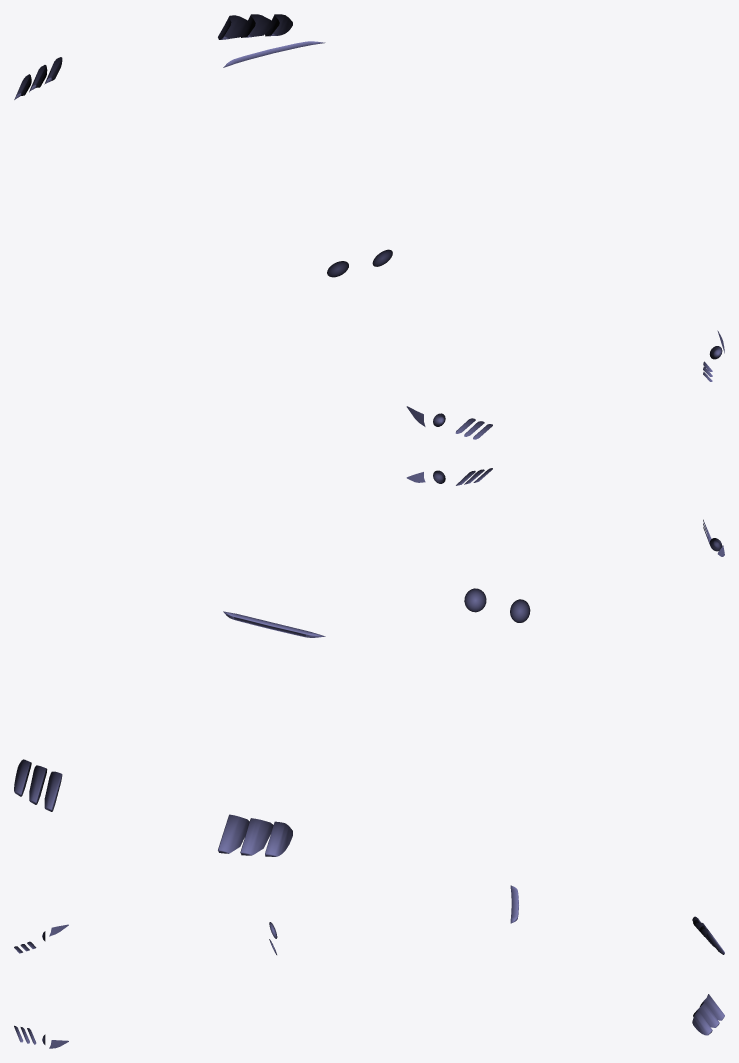
The model's file is Mustang16_Chassis_Detail.fbx.
The picture shows the model from 3 angles, top to bottom: view 1: azimuth 30°, elevation 25°; view 2: azimuth 150°, elevation 25°; view 3: azimuth 270°, elevation 25°; orthographic projection. The views are drawn at different scales.
Parts seen in each view (by area): view 1: Mustang16_Chassis_Detail; view 2: Mustang16_Chassis_Detail; view 3: Mustang16_Chassis_Detail.
Part boxes in pixels (bbox=[...]): Mustang16_Chassis_Detail: bbox=[14, 14, 724, 439]; Mustang16_Chassis_Detail: bbox=[14, 468, 724, 856]; Mustang16_Chassis_Detail: bbox=[14, 885, 724, 1048].
Size of the model in its own units: 171 by 65.28 by 442.
